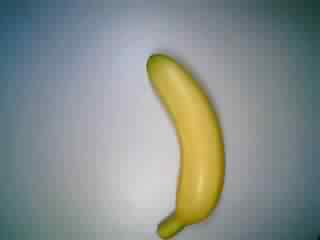banana: (139, 46, 235, 240)
